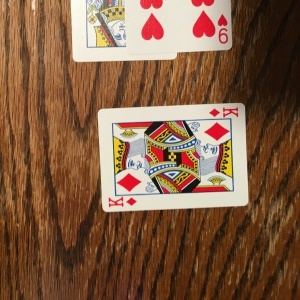card: (99, 101, 252, 212)
